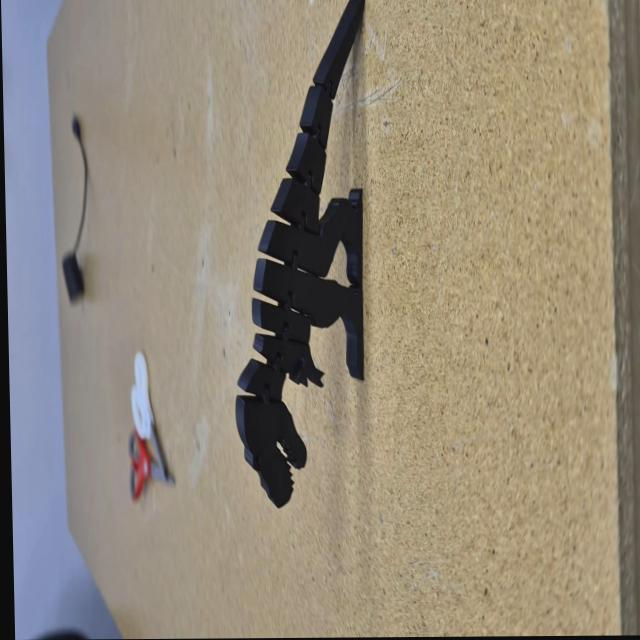dino: (224, 0, 377, 511)
